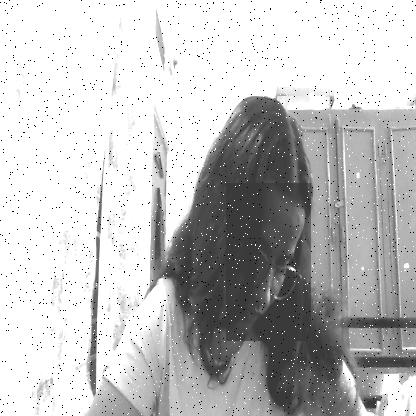Distracted: (226, 183, 311, 341)
